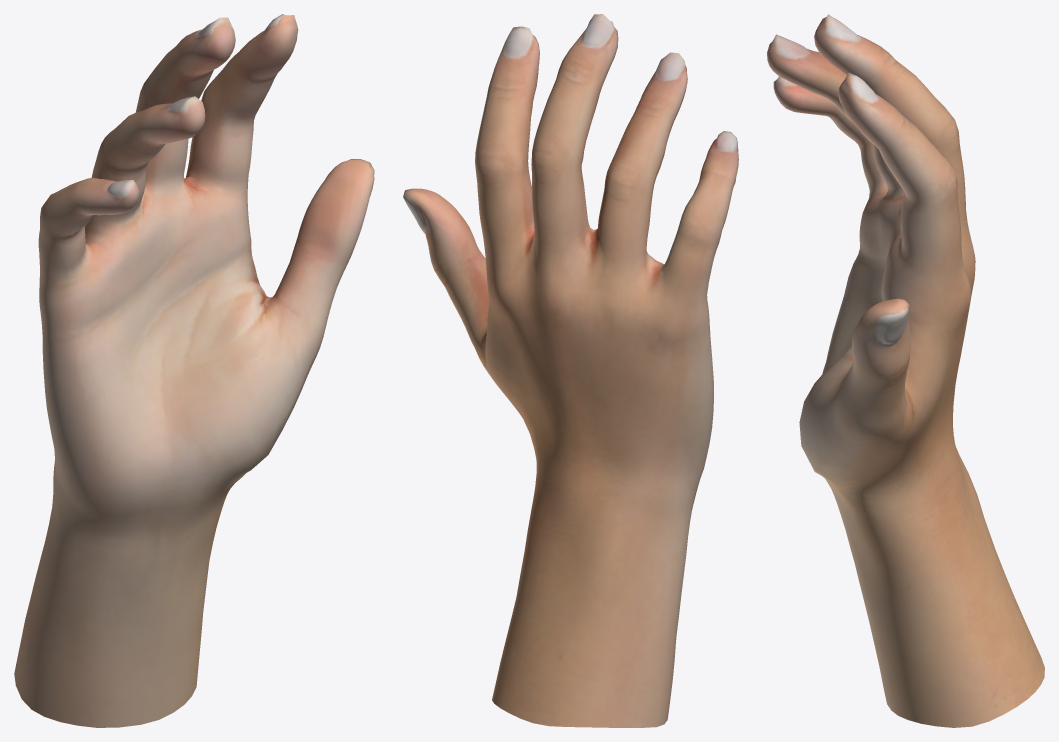
The model's file is hand.glb.
The picture shows the model from 3 angles, left to right: view 1: azimuth 30°, elevation 25°; view 2: azimuth 150°, elevation 25°; view 3: azimuth 270°, elevation 25°; orthographic projection. The views are drawn at different scales.
Visible parts, largest first — view 1: Object_2; view 2: Object_2; view 3: Object_2.
Part boxes in pixels (x1=…): Object_2: x1=14, y1=14, x2=374, y2=727; Object_2: x1=403, y1=14, x2=738, y2=727; Object_2: x1=767, y1=14, x2=1044, y2=727.
Size of the model in its own units: 12.24 by 24.96 by 8.92.
1 material, 1 textured.
